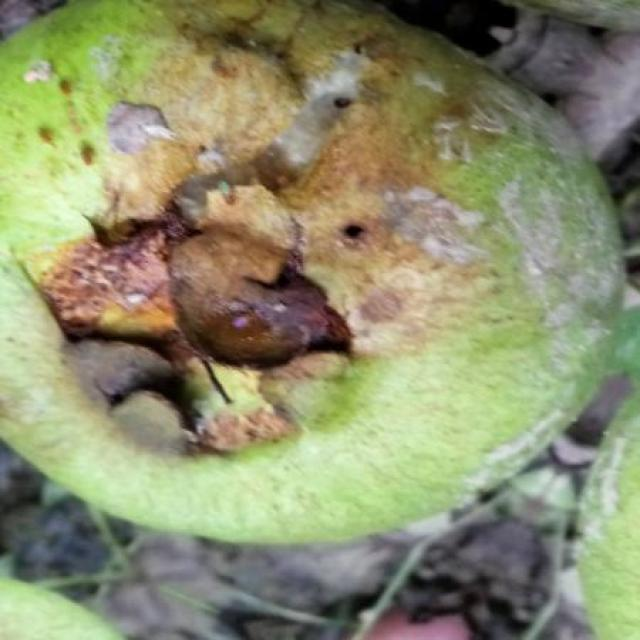Styler and Root: (0, 0, 624, 542)
